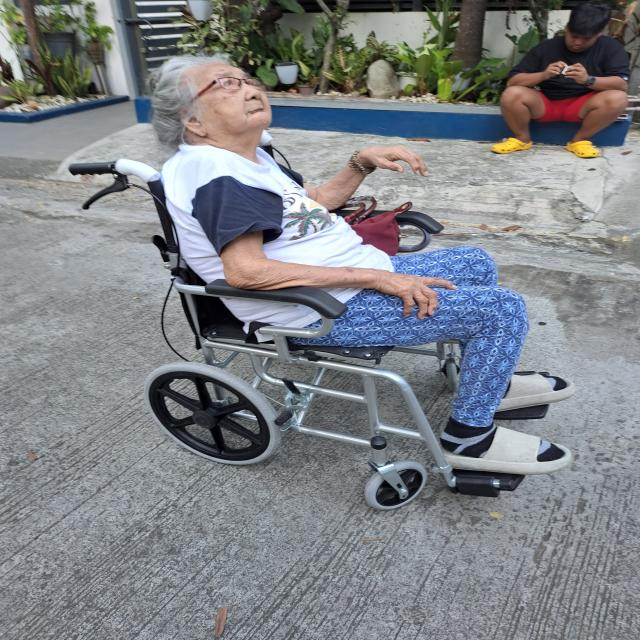wheelchairs: (65, 151, 555, 524)
